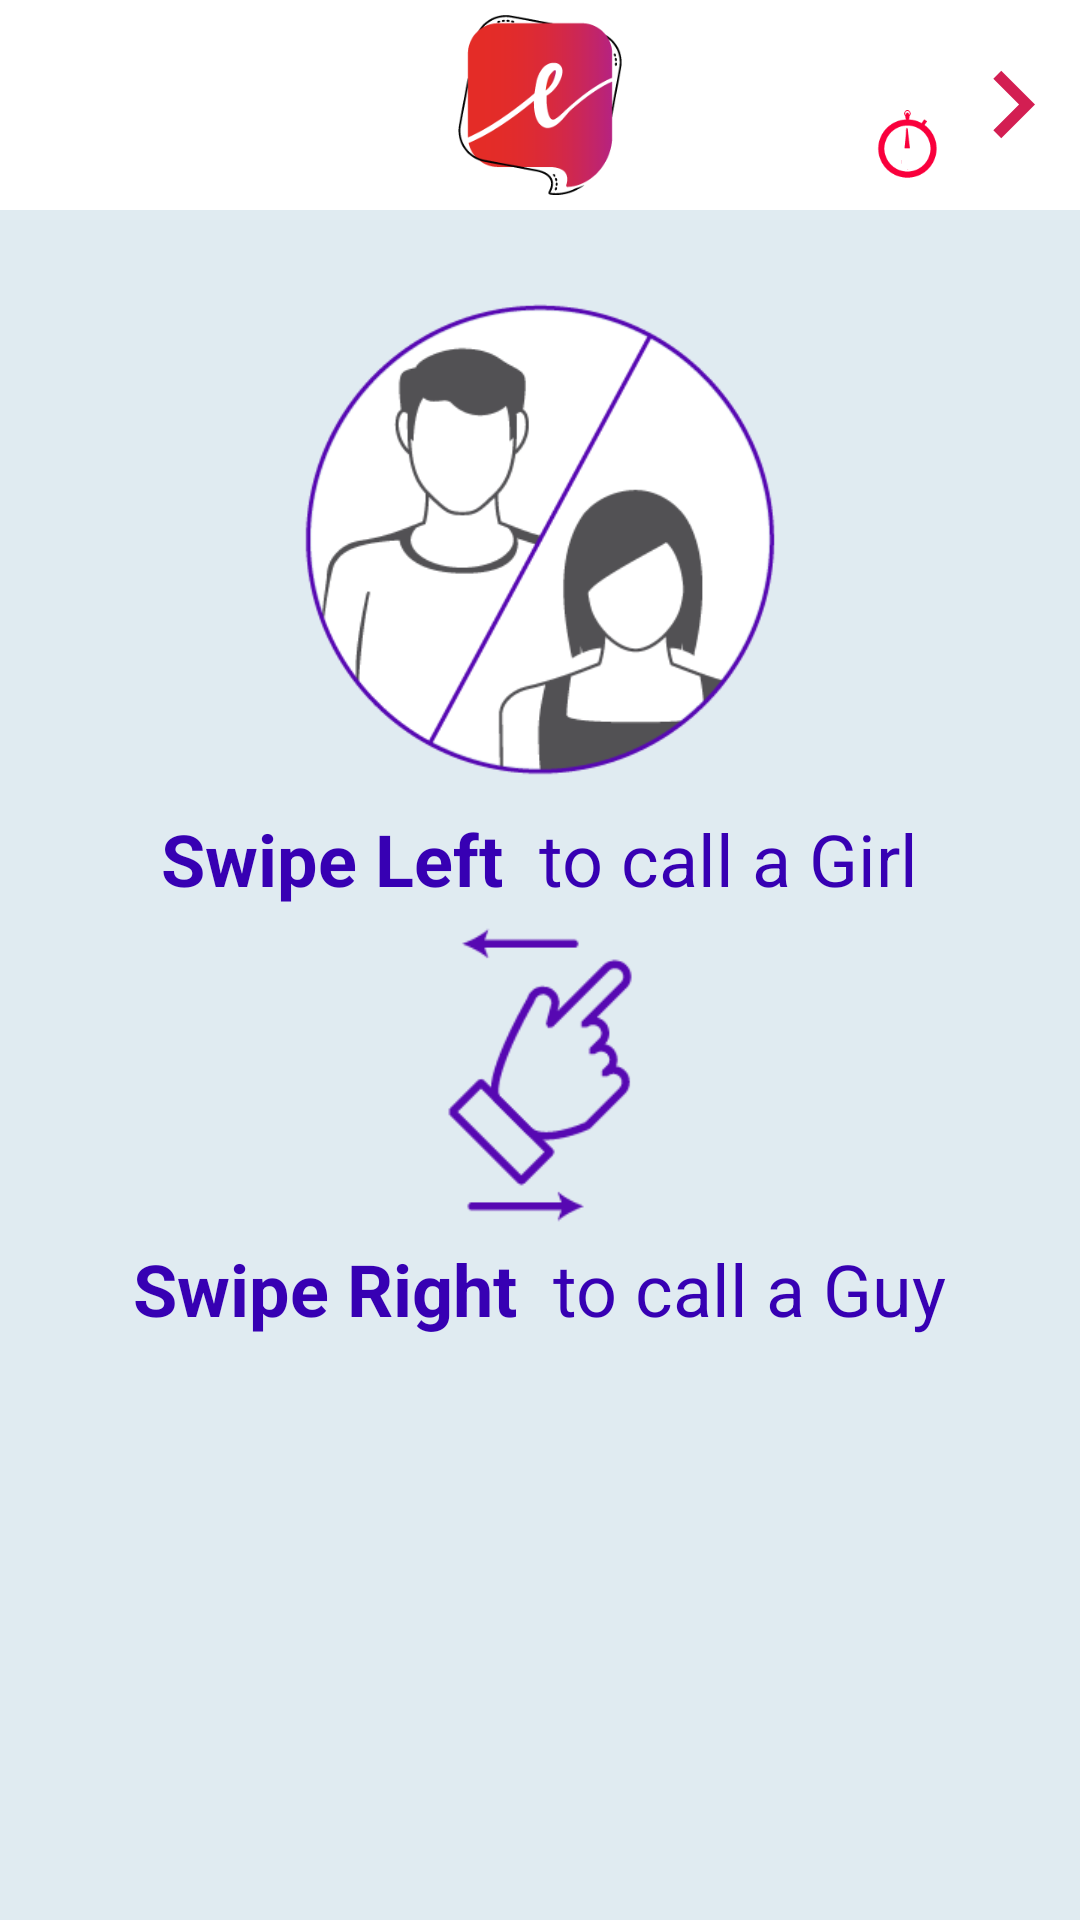

Where to tap for icons on this 1080px x 1920px app screen, as [x,y]:
arrow right: [1014,104]
handswipe: [540,1075]
